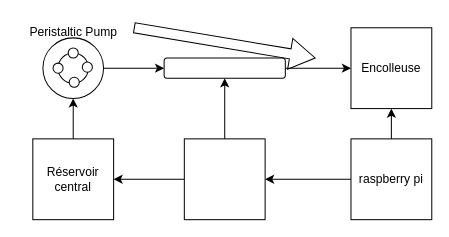
Image size: 449x237. Some labels were removed from this diagram. The shapes that lost their labels are listed below. From the top down, each one's box as (x1, y1, x2, y2) in pixels, then its label:
(163, 57, 285, 78): Réservoir individuel
(183, 138, 265, 220): Capteur de niveau pour colle
